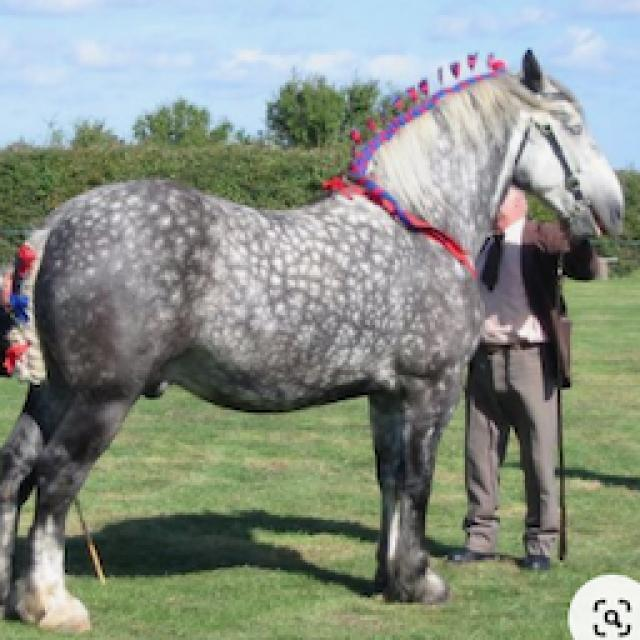Horse: (0, 42, 630, 636)
